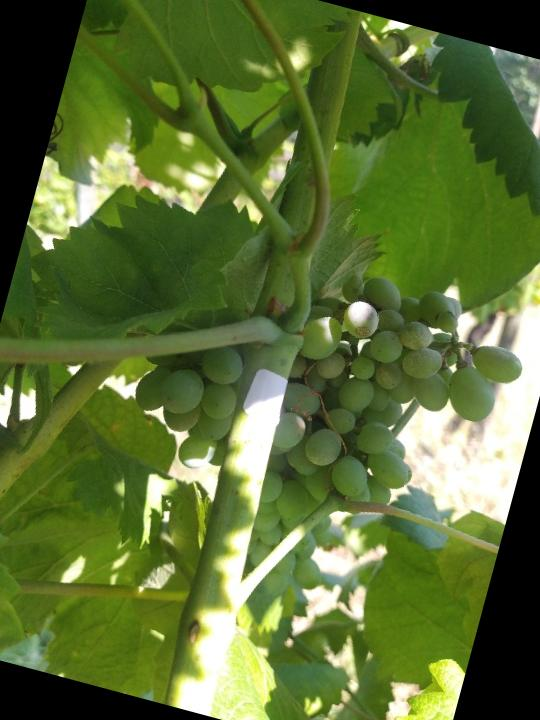grape: (90, 221, 540, 645)
